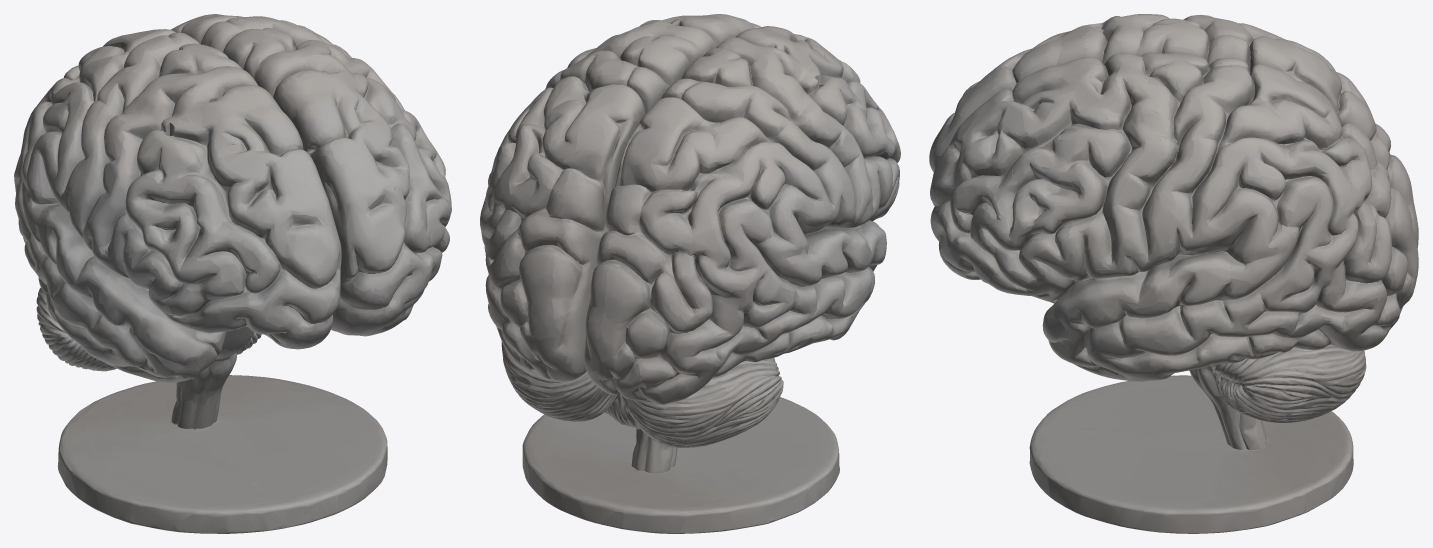
Rendered from brain.glb.
3 renders of one model, left to right at view 1: azimuth 30°, elevation 25°; view 2: azimuth 150°, elevation 25°; view 3: azimuth 270°, elevation 25°, orthographic. The views are drawn at different scales.
Parts seen in each view (by area): view 1: Mesh_0; view 2: Mesh_0; view 3: Mesh_0.
Part boxes in pixels (box(x1,y1,x2,y2)): Mesh_0: box(14, 14, 451, 533); Mesh_0: box(480, 14, 900, 533); Mesh_0: box(929, 14, 1418, 533).
Size of the model in its own units: 1.57 by 1.82 by 1.9.
1 material, 1 textured.
